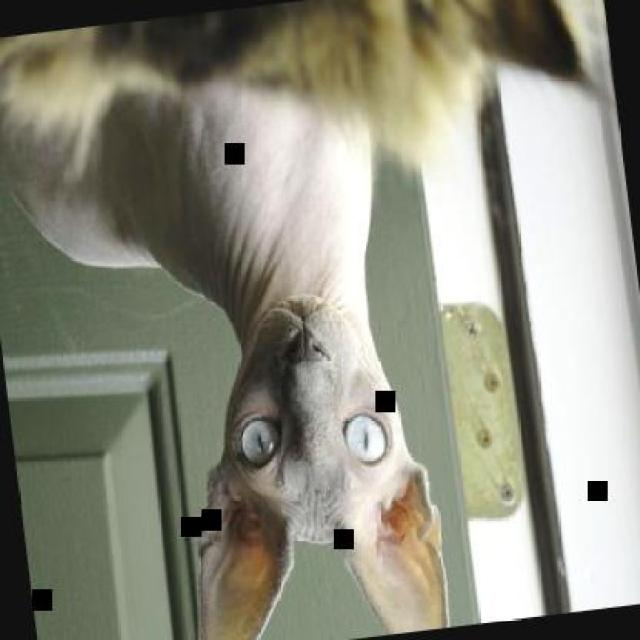cat: (0, 49, 457, 638)
